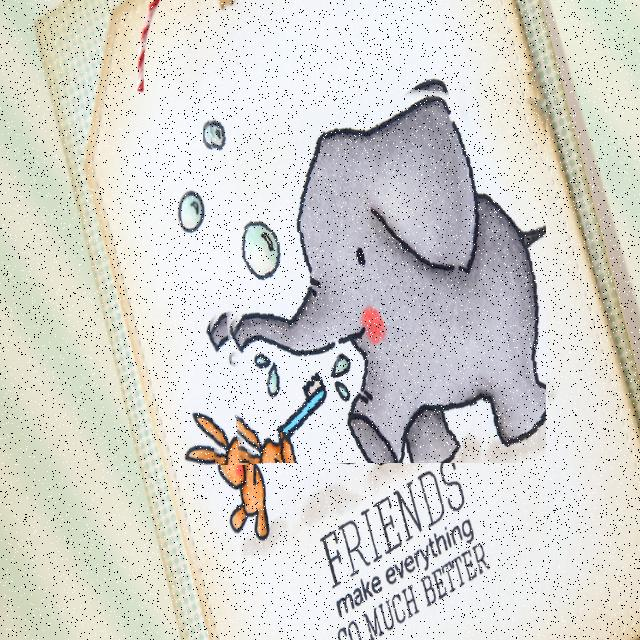elephant: (205, 74, 546, 463)
